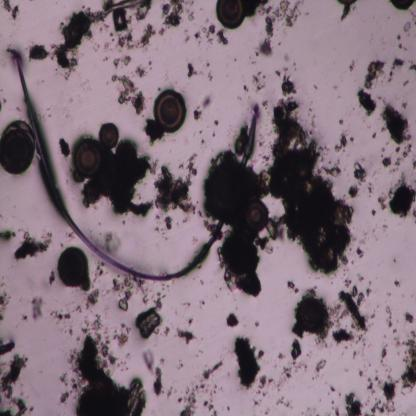Background material: (271, 69, 353, 277), (206, 151, 268, 300), (81, 137, 156, 219), (59, 327, 127, 416), (50, 7, 106, 77), (152, 152, 200, 216), (292, 290, 348, 343), (0, 351, 32, 415), (336, 284, 370, 334), (233, 336, 264, 389), (108, 73, 145, 115), (385, 170, 416, 218), (363, 372, 398, 412), (12, 226, 53, 260), (136, 296, 165, 340), (381, 104, 411, 144), (115, 22, 156, 51), (158, 0, 188, 38), (112, 278, 145, 310), (400, 330, 416, 396), (272, 0, 305, 29), (177, 383, 205, 416), (97, 332, 118, 369), (363, 60, 388, 90), (257, 16, 275, 57), (194, 25, 229, 46), (102, 1, 144, 16), (354, 90, 378, 115), (142, 119, 165, 144), (234, 122, 249, 159), (98, 230, 123, 252), (392, 143, 411, 171), (112, 322, 131, 349), (245, 0, 272, 19), (344, 390, 364, 415), (101, 24, 115, 57), (337, 0, 358, 22), (82, 314, 104, 335), (250, 68, 267, 94), (332, 326, 354, 346), (388, 57, 405, 82), (0, 284, 11, 322), (203, 358, 222, 380), (153, 365, 166, 397), (278, 365, 293, 391), (28, 43, 49, 61), (2, 0, 20, 21), (30, 295, 45, 320), (176, 327, 198, 344), (113, 9, 129, 32), (290, 338, 304, 361), (136, 0, 152, 20), (321, 163, 341, 179), (85, 290, 100, 310), (143, 348, 154, 375), (58, 138, 72, 159), (0, 336, 16, 354), (383, 304, 393, 332), (334, 133, 348, 153), (354, 161, 367, 182), (258, 373, 272, 392), (0, 228, 17, 243), (93, 262, 105, 282), (274, 396, 291, 410), (112, 54, 129, 68), (55, 309, 74, 321), (186, 62, 198, 79), (163, 215, 174, 233), (248, 397, 266, 408), (380, 343, 389, 365), (324, 379, 337, 394), (226, 313, 238, 329), (376, 195, 388, 211), (201, 93, 212, 110), (348, 54, 357, 73), (288, 280, 300, 294), (404, 310, 415, 325), (316, 358, 326, 373), (381, 155, 393, 167), (349, 185, 360, 198), (136, 66, 147, 78), (355, 247, 365, 260), (249, 318, 262, 328), (193, 110, 203, 122), (402, 21, 412, 33), (396, 33, 403, 50), (48, 271, 55, 286), (331, 406, 341, 416), (186, 316, 196, 326), (274, 352, 286, 360), (187, 12, 196, 21), (370, 130, 378, 140), (401, 101, 409, 110), (394, 279, 402, 287), (369, 207, 375, 217), (409, 64, 416, 72), (413, 158, 416, 170)
Diatom: (0, 122, 36, 177), (152, 89, 186, 133), (56, 247, 89, 288), (73, 139, 102, 180), (244, 197, 271, 233), (216, 0, 245, 29), (124, 378, 144, 416), (98, 122, 119, 148), (390, 0, 416, 11)
Microfibre: (15, 53, 272, 282)
